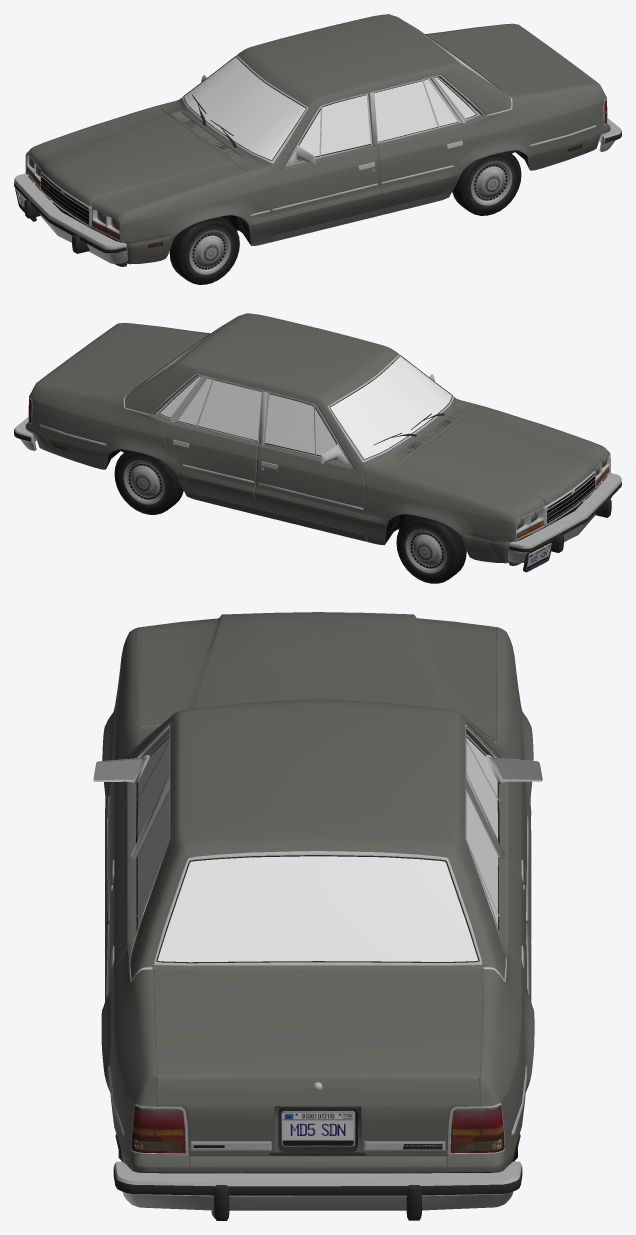
Rendered from CocheLOD1.fbx.
3 views of the same model, one above another, from view 1: azimuth 30°, elevation 25°; view 2: azimuth 150°, elevation 25°; view 3: azimuth 270°, elevation 25° (orthographic). The views are drawn at different scales.
Visible parts, largest first — view 1: body_Bodycolor_0, Hood_Bodycolor_0, Door_FL_Bodycolor_0, Wiendshield_UCB_GLASS_CLEAN_0, trunk_door_Bodycolor_0, Door_RL_Bodycolor_0, Wheel_FL_RIMSTOCK_05_0, Door_Glass_RL_UCB_GLASS_CLEAN_0, Wheel_RL_RIMSTOCK_05_0, bumper_front_UCB_BOTTOM_0, Door_Glass_FL_UCB_GLASS_CLEAN_0, Bodytrim_UCB_BOTTOM_0 (+6 smaller); view 2: body_Bodycolor_0, Hood_Bodycolor_0, Door_FR_Bodycolor_0, Wiendshield_UCB_GLASS_CLEAN_0, trunk_door_Bodycolor_0, Door_RR_Bodycolor_0, Wheel_FR_RIMSTOCK_05_0, Door_Glass_RR_UCB_GLASS_CLEAN_0, Wheel_RR_RIMSTOCK_05_0, bumper_front_UCB_BOTTOM_0, Door_Glass_FR_UCB_GLASS_CLEAN_0, Bodytrim_UCB_BOTTOM_0 (+6 smaller); view 3: body_Bodycolor_0, trunk_door_Bodycolor_0, Hood_Bodycolor_0, Windows_rear_UCB_GLASS_CLEAN_0, bumper_rear_UCB_BOTTOM_0, Bodytrim_UCB_BOTTOM_0, Trunk_door_inner_UCB_BOTTOM_0, Door_FR_Bodycolor_0, Numberplate_rear_Numberplates_0, Door_FL_Bodycolor_0, Door_RR_Bodycolor_0, Door_RL_Bodycolor_0 (+10 smaller).
Part boxes in pixels (x1,y1,x2,y2): body_Bodycolor_0: (25,14,610,264); Hood_Bodycolor_0: (28,106,248,218); Door_FL_Bodycolor_0: (270,145,381,236); Wiendshield_UCB_GLASS_CLEAN_0: (184,57,305,160); trunk_door_Bodycolor_0: (428,24,598,96); Door_RL_Bodycolor_0: (377,123,470,208); Wheel_FL_RIMSTOCK_05_0: (169,216,239,284); Door_Glass_RL_UCB_GLASS_CLEAN_0: (374,79,457,141); Wheel_RL_RIMSTOCK_05_0: (452,151,521,215); bumper_front_UCB_BOTTOM_0: (14,173,127,263); Door_Glass_FL_UCB_GLASS_CLEAN_0: (299,95,370,156); Bodytrim_UCB_BOTTOM_0: (182,16,596,169); body_Bodycolor_0: (25,313,610,563); Hood_Bodycolor_0: (388,405,607,517); Door_FR_Bodycolor_0: (254,444,365,535); Wiendshield_UCB_GLASS_CLEAN_0: (330,356,451,459); trunk_door_Bodycolor_0: (37,324,207,395); Door_RR_Bodycolor_0: (165,422,258,507); Wheel_FR_RIMSTOCK_05_0: (396,515,466,583); Door_Glass_RR_UCB_GLASS_CLEAN_0: (178,378,261,440); Wheel_RR_RIMSTOCK_05_0: (114,450,183,514); bumper_front_UCB_BOTTOM_0: (508,472,621,572); Door_Glass_FR_UCB_GLASS_CLEAN_0: (265,394,336,455); Bodytrim_UCB_BOTTOM_0: (39,315,454,468); body_Bodycolor_0: (101,627,534,1172); trunk_door_Bodycolor_0: (153,969,482,1156); Hood_Bodycolor_0: (139,612,496,728); Windows_rear_UCB_GLASS_CLEAN_0: (157,856,478,962); bumper_rear_UCB_BOTTOM_0: (113,1161,522,1220); Bodytrim_UCB_BOTTOM_0: (108,723,527,1153); Trunk_door_inner_UCB_BOTTOM_0: (190,1082,445,1155); Door_FR_Bodycolor_0: (500,758,531,941); Numberplate_rear_Numberplates_0: (281,1111,355,1146); Door_FL_Bodycolor_0: (105,758,135,941); Door_RR_Bodycolor_0: (500,858,531,1001); Door_RL_Bodycolor_0: (105,858,135,1001).
Bounding box in the file's own units: 498 × 135 × 183.
